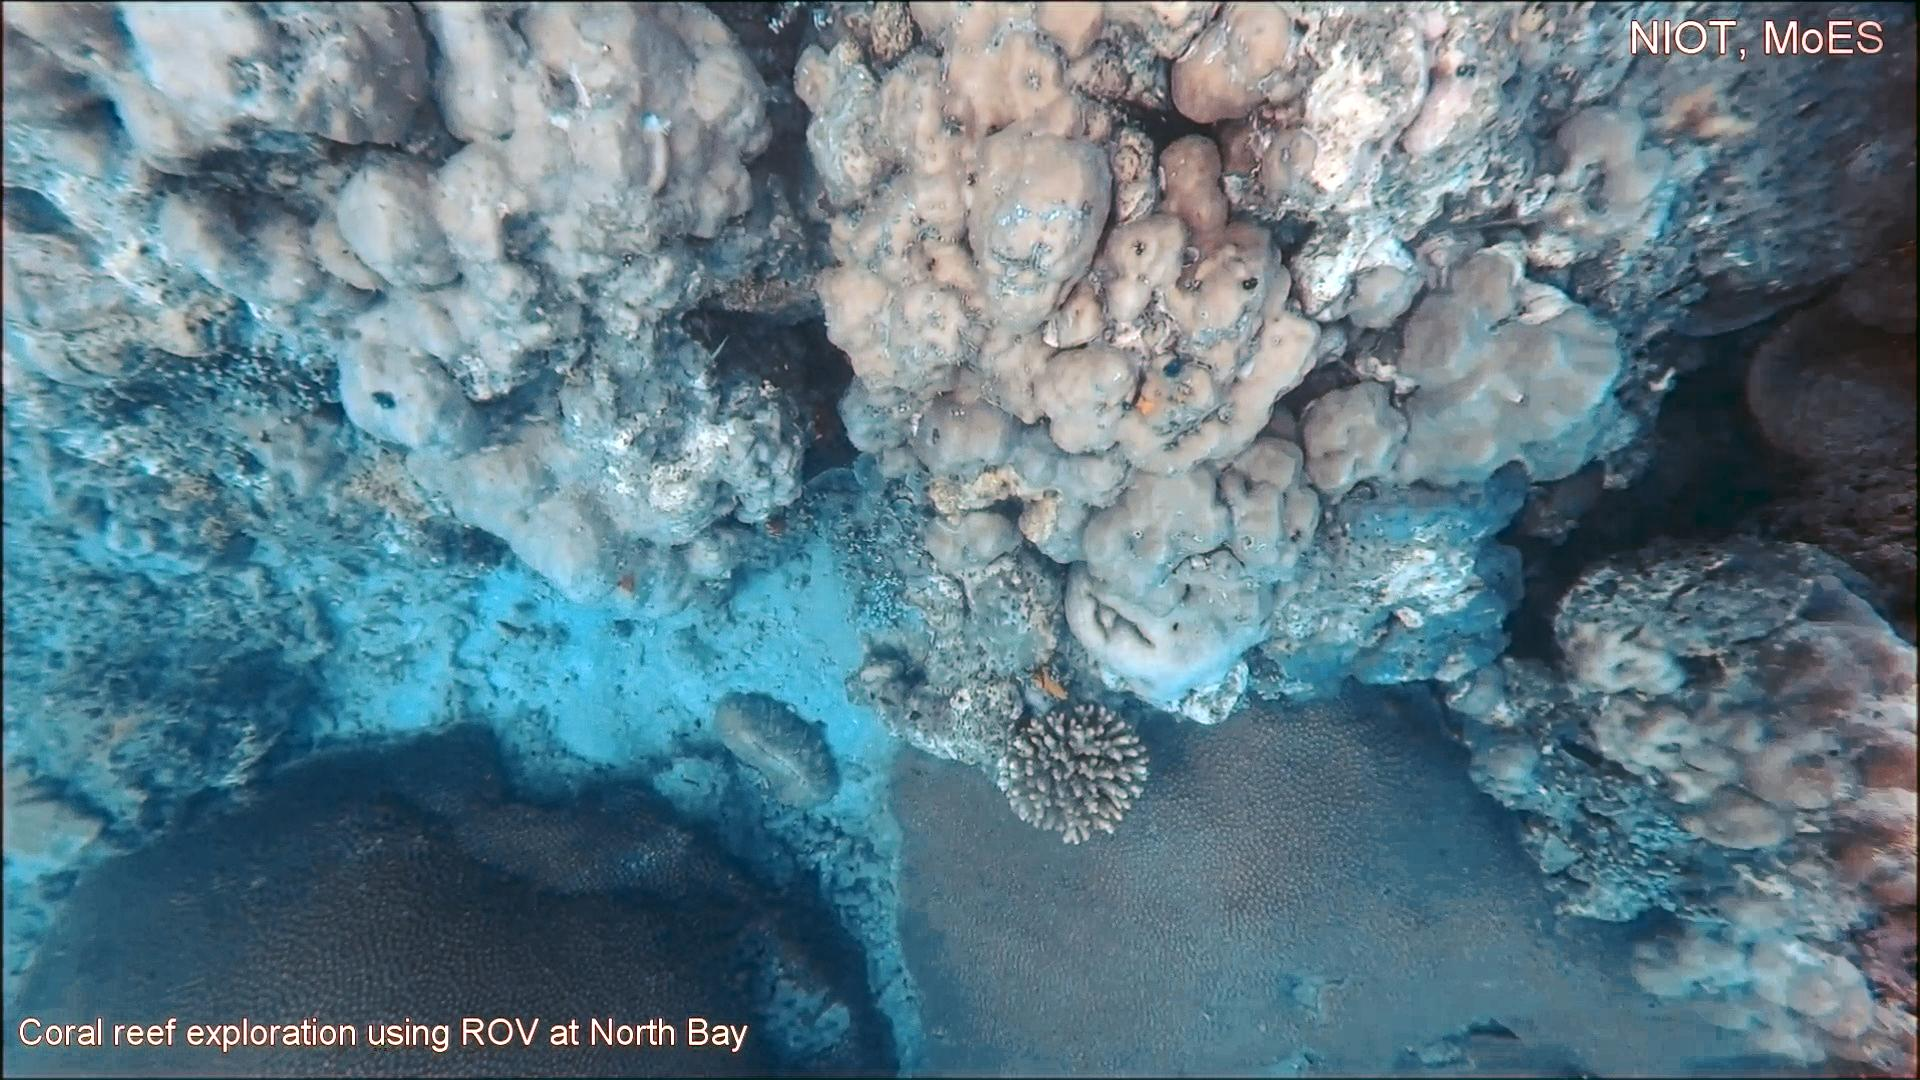Meandrina meandrites: (1734, 256, 1920, 485)
